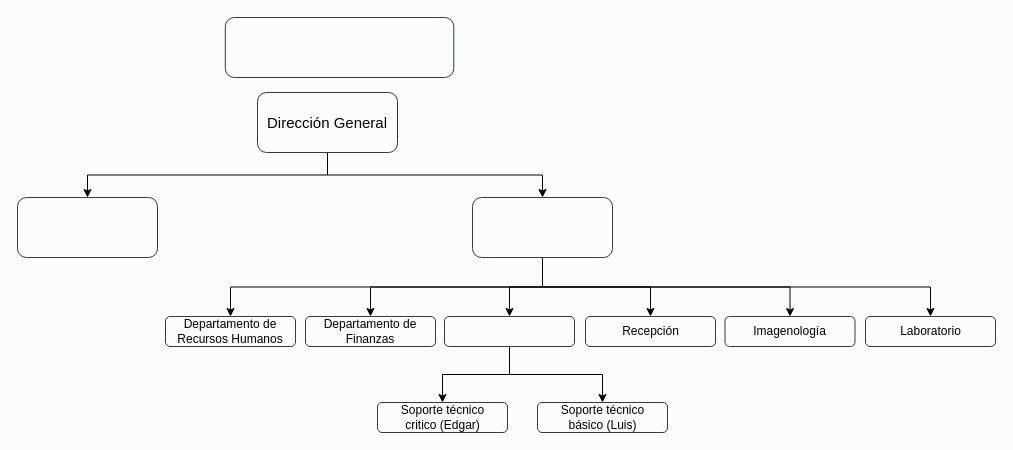
This 1013x450 diagram has some shape labels left out. The box of each missing label's shape, as (x1, y1, x2, y2) in pixels:
Departamento de Informatica (Edgar): (444, 316, 574, 346)
Organigrama del Centro Clinico Aconcagua: (224, 16, 454, 78)
Subdirección Administrativa: (472, 196, 612, 258)
Subdirección Medica: (16, 196, 158, 258)
